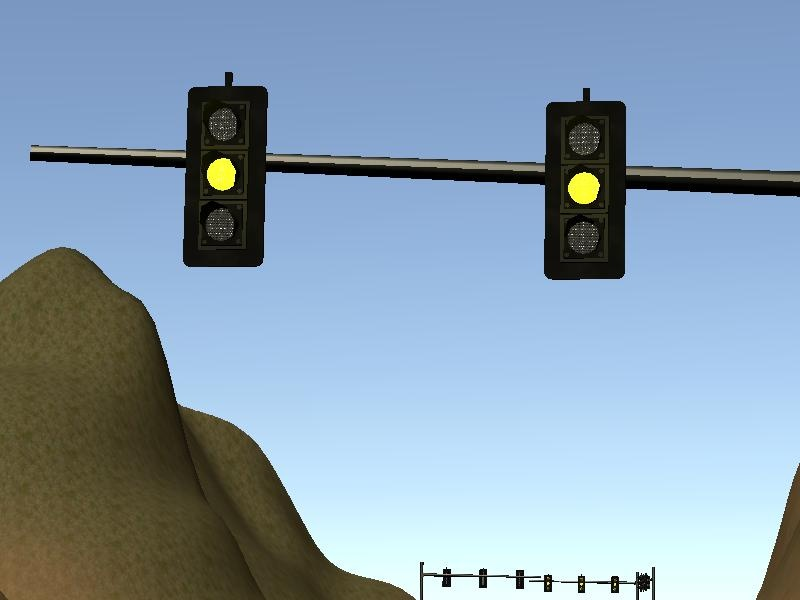YELLOW: (181, 82, 268, 268), (542, 98, 629, 284)
